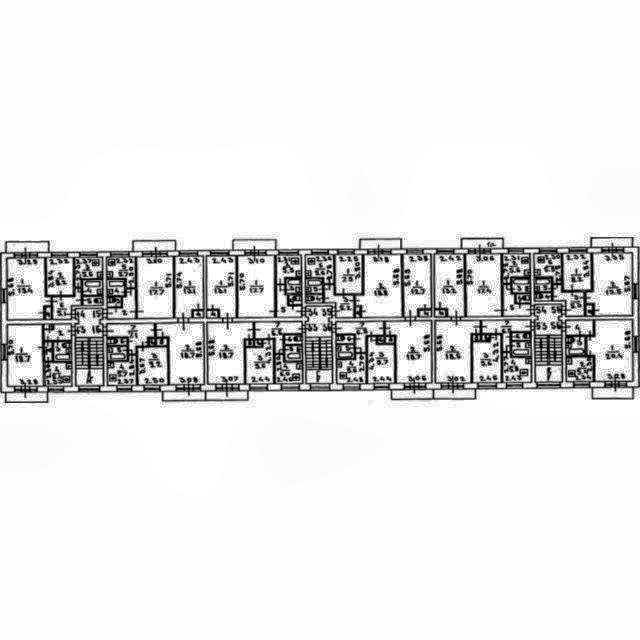room: (356, 255, 402, 317), (157, 324, 203, 385), (586, 254, 632, 315), (435, 321, 480, 383), (587, 321, 632, 382), (386, 322, 431, 383), (208, 323, 252, 384), (8, 259, 51, 320), (466, 254, 501, 317), (238, 256, 274, 317), (138, 257, 173, 318), (76, 309, 103, 386), (535, 305, 562, 382), (9, 326, 43, 386), (306, 307, 332, 384), (434, 254, 464, 317), (207, 257, 236, 318), (404, 254, 431, 317), (176, 257, 203, 318), (336, 322, 383, 353), (107, 324, 154, 354), (483, 321, 530, 351), (256, 323, 301, 353), (368, 337, 394, 384), (474, 336, 500, 383), (246, 340, 273, 384), (138, 349, 167, 385), (563, 254, 591, 290), (47, 258, 72, 295), (336, 256, 361, 293), (554, 285, 583, 316), (325, 286, 353, 317), (337, 354, 365, 384), (108, 356, 136, 385), (54, 289, 81, 319), (504, 285, 530, 316), (503, 354, 531, 382), (75, 258, 102, 287), (535, 255, 562, 284), (108, 290, 135, 318), (306, 255, 333, 283), (108, 258, 134, 287), (503, 254, 529, 283), (277, 286, 301, 317), (276, 355, 302, 383), (277, 256, 300, 284), (45, 363, 71, 385), (567, 359, 592, 381), (6, 242, 48, 252), (134, 241, 175, 251), (206, 391, 247, 401), (593, 389, 633, 399), (44, 325, 71, 339), (234, 240, 275, 249), (592, 238, 632, 247), (566, 337, 585, 355), (567, 321, 593, 334), (163, 392, 205, 400), (360, 240, 401, 248), (6, 394, 47, 402), (392, 391, 433, 399), (462, 239, 502, 247), (434, 390, 474, 398), (54, 343, 71, 360), (83, 280, 102, 295), (512, 342, 531, 356), (107, 280, 124, 295), (513, 278, 530, 293), (286, 346, 302, 361), (108, 348, 126, 360), (336, 346, 353, 358), (306, 280, 322, 292), (287, 280, 301, 293), (536, 279, 550, 291), (83, 297, 102, 305), (306, 294, 322, 302), (285, 336, 301, 344), (45, 343, 52, 361), (512, 333, 530, 340), (336, 336, 353, 343), (108, 297, 121, 306), (108, 339, 127, 345), (289, 296, 301, 305), (536, 294, 551, 301), (517, 295, 530, 303), (207, 311, 217, 318), (435, 310, 445, 317), (157, 339, 167, 346), (420, 311, 431, 317), (586, 305, 592, 316), (194, 311, 203, 318), (46, 307, 51, 319), (386, 337, 394, 343), (246, 340, 253, 346), (482, 335, 489, 341), (473, 335, 479, 341), (255, 341, 261, 346), (378, 337, 383, 343), (356, 308, 359, 317), (150, 339, 154, 345)
